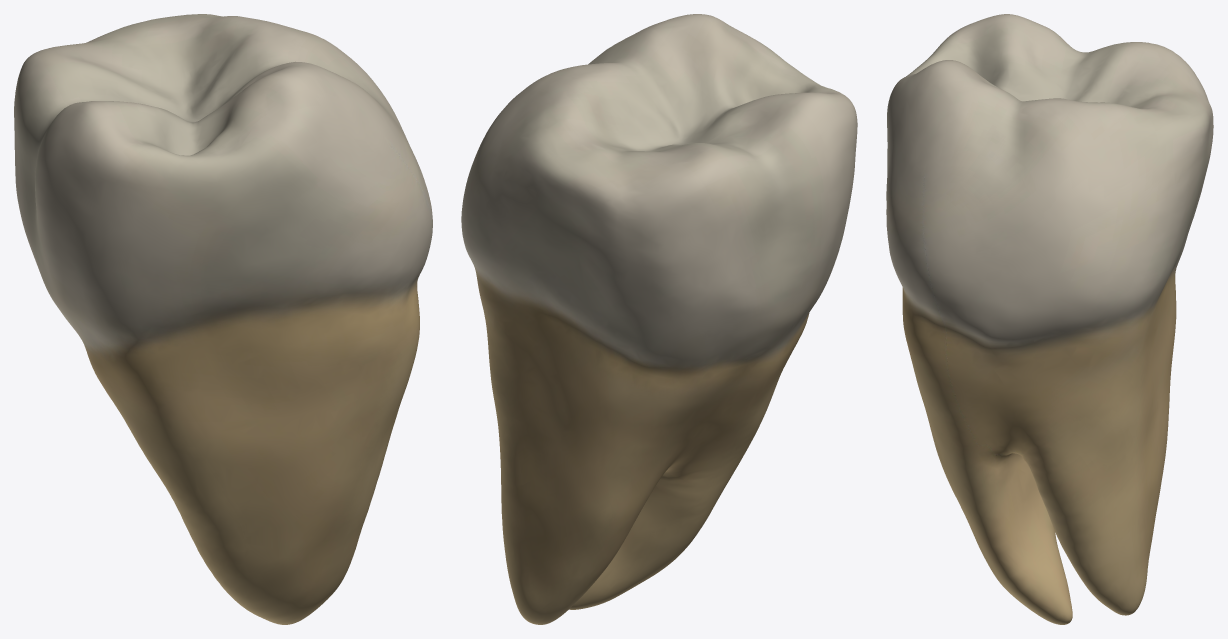
Rendered from mandibular_third_molar.glb.
3 renders of one model, left to right at view 1: azimuth 30°, elevation 25°; view 2: azimuth 150°, elevation 25°; view 3: azimuth 270°, elevation 25°, orthographic. The views are drawn at different scales.
Visible parts, largest first — view 1: Object_2; view 2: Object_2; view 3: Object_2.
Boxes of the visible parts, bbox=[...] form: Object_2: bbox=[14, 14, 432, 624]; Object_2: bbox=[461, 14, 857, 624]; Object_2: bbox=[886, 14, 1213, 624].
Bounding box in the file's own units: 0.9727 × 1.53 × 0.8584.
Materials: 1 (1 with a texture image).
